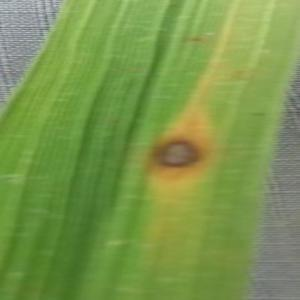Brown_Spot: (132, 118, 223, 187), (178, 28, 206, 50), (246, 105, 271, 124), (228, 61, 251, 80)
